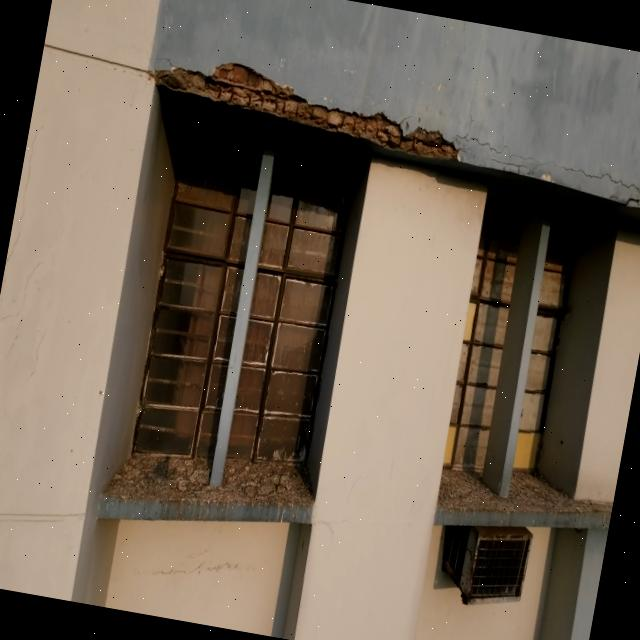Crack: (451, 134, 640, 204), (0, 109, 43, 360)
Spalling: (153, 63, 459, 160)
